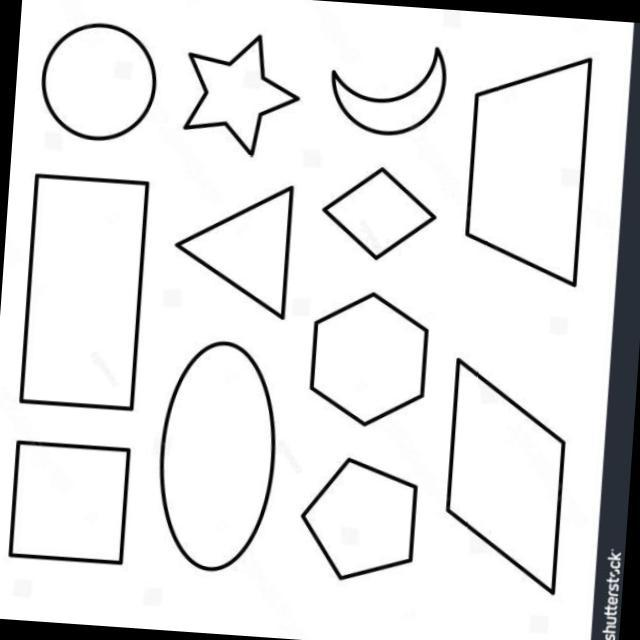circle: (39, 19, 165, 152)
square: (0, 434, 142, 579)
triangle: (162, 176, 310, 328)
